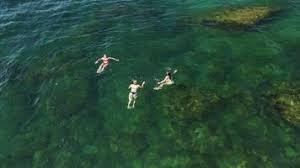Person: (126, 77, 146, 110), (152, 68, 181, 90), (94, 53, 120, 77)
